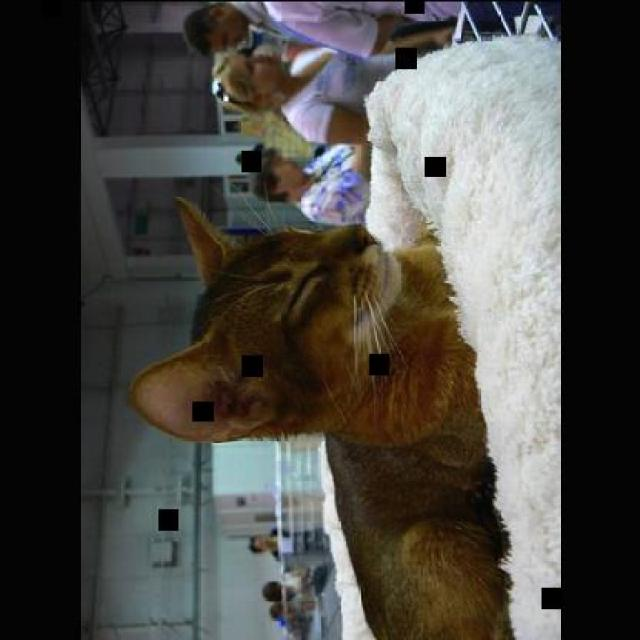unauthorized: (128, 191, 524, 638)
